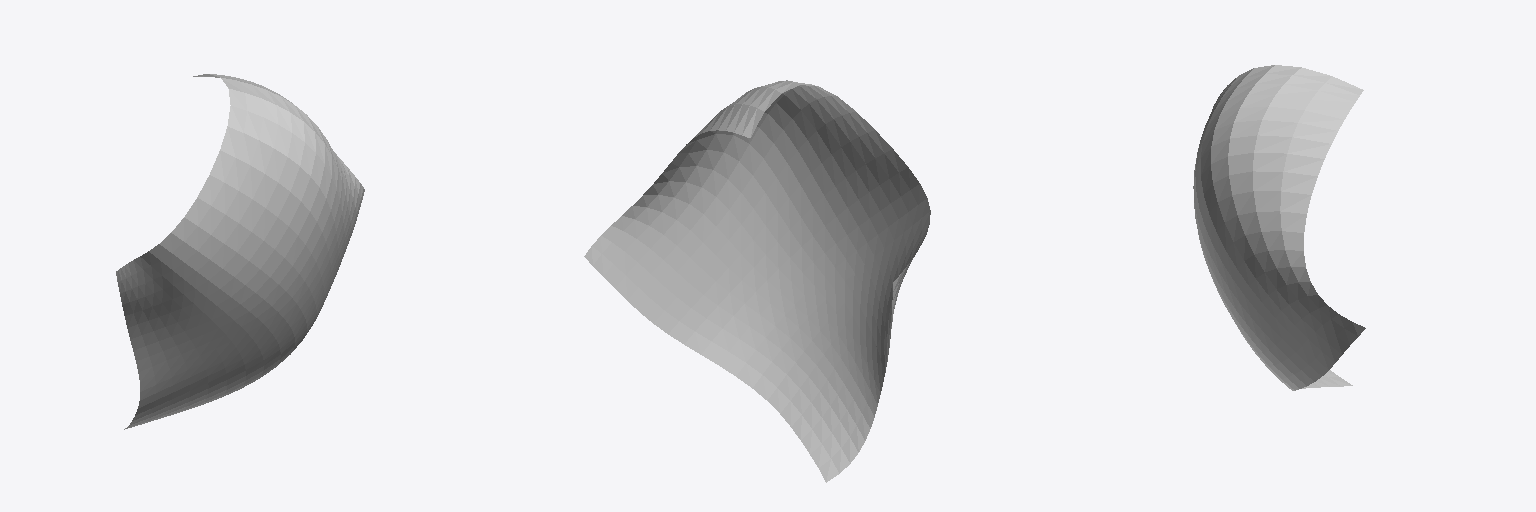
File: Explanatory_C_Qstart.obj
The picture shows the model from 3 angles: view 1: azimuth 30°, elevation 25°; view 2: azimuth 150°, elevation 25°; view 3: azimuth 270°, elevation 25°; orthographic projection.
Visible parts, largest first — view 1: [local-path]/hanan/hananLab/QS_project/data/Remeshing/Explanator; view 2: [local-path]/hanan/hananLab/QS_project/data/Remeshing/Explanator; view 3: [local-path]/hanan/hananLab/QS_project/data/Remeshing/Explanator.
Boxes of the visible parts, x1,y1,x2,y2 form: [local-path]/hanan/hananLab/QS_project/data/Remeshing/Explanator: [116, 74, 364, 429]; [local-path]/hanan/hananLab/QS_project/data/Remeshing/Explanator: [584, 80, 930, 482]; [local-path]/hanan/hananLab/QS_project/data/Remeshing/Explanator: [1193, 65, 1365, 390].
Size of the model in its own units: 1.49 by 1.78 by 0.7918.